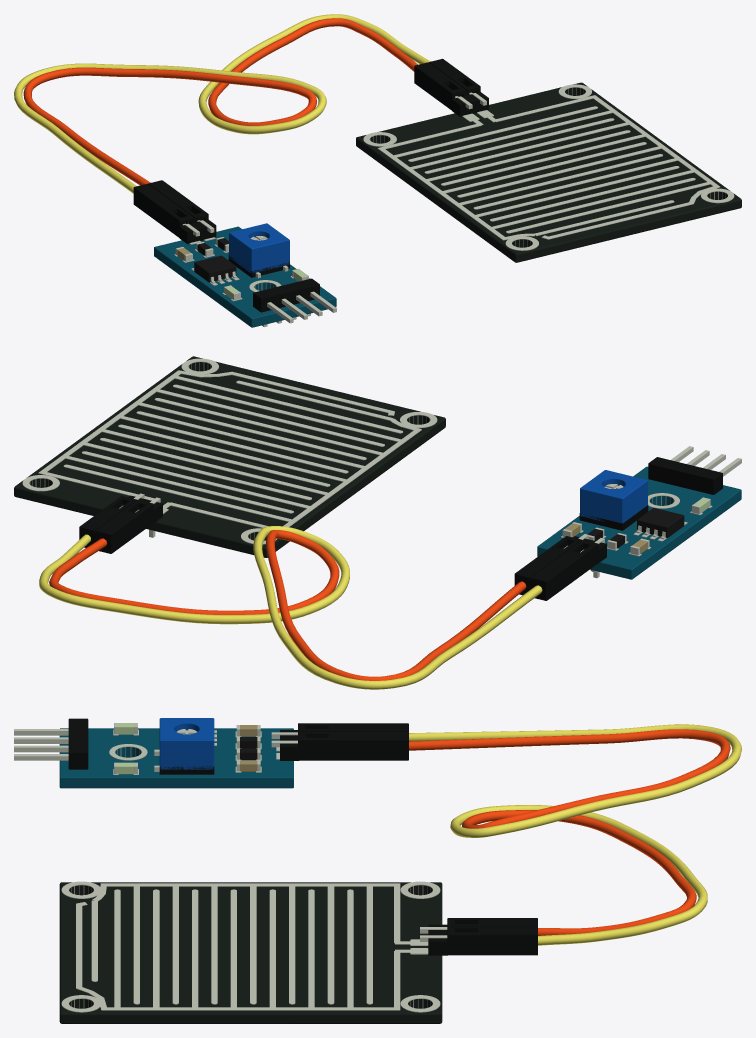
The model's file is humedad lluvia.glb.
The picture shows the model from 3 angles, top to bottom: view 1: azimuth 30°, elevation 25°; view 2: azimuth 150°, elevation 25°; view 3: azimuth 270°, elevation 25°; orthographic projection. The views are drawn at different scales.
Parts seen in each view (by area): view 1: Sensor board substrate_export, Orange jumper cable_export, Yellow jumper cable_export, Controller board substrate_export, Sensitivity adjustment trimmer_export, Controller two pin plug housing_export, Sensor two pin plug housing_export, Four pin output header_export, Comparator IC_export, Electrode B finger 07_export, Electrode A finger 02_export, Electrode B finger 01_export (+17 smaller); view 2: Sensor board substrate_export, Yellow jumper cable_export, Orange jumper cable_export, Controller board substrate_export, Controller two pin plug housing_export, Sensitivity adjustment trimmer_export, Sensor two pin plug housing_export, Four pin output header_export, Comparator IC_export, Electrode B finger 01_export, Electrode B finger 04_export, Electrode A finger 03_export (+15 smaller); view 3: Sensor board substrate_export, Yellow jumper cable_export, Controller board substrate_export, Orange jumper cable_export, Controller two pin plug housing_export, Sensor two pin plug housing_export, Sensitivity adjustment trimmer_export, Four pin output header_export, Electrode B bus_export, Electrode A bus_export, Electrode A finger 02_export, Lower electrode B return_export (+16 smaller).
Part boxes in pixels (x1,y1,x2,y2): Sensor board substrate_export: (356,82,741,262); Orange jumper cable_export: (23,18,417,185); Yellow jumper cable_export: (14,14,430,193); Controller board substrate_export: (154,226,336,327); Sensitivity adjustment trimmer_export: (229,223,289,273); Controller two pin plug housing_export: (133,180,208,237); Sensor two pin plug housing_export: (414,58,480,110); Four pin output header_export: (253,278,319,312); Comparator IC_export: (194,255,236,282); Electrode B finger 07_export: (506,181,711,233); Electrode A finger 02_export: (408,118,614,169); Electrode B finger 01_export: (408,110,614,161); Sensor board substrate_export: (14,356,445,557); Yellow jumper cable_export: (39,526,542,689); Orange jumper cable_export: (49,530,526,680); Controller board substrate_export: (537,466,741,579); Controller two pin plug housing_export: (514,536,598,600); Sensitivity adjustment trimmer_export: (580,470,647,523); Sensor two pin plug housing_export: (79,496,153,553); Four pin output header_export: (648,457,722,494); Comparator IC_export: (637,508,684,537); Electrode B finger 01_export: (63,455,293,513); Electrode B finger 04_export: (118,415,348,473); Electrode A finger 03_export: (100,438,330,495); Sensor board substrate_export: (59,882,442,1023); Yellow jumper cable_export: (409,724,741,945); Controller board substrate_export: (59,728,293,788); Orange jumper cable_export: (409,729,730,935); Controller two pin plug housing_export: (298,723,408,760); Sensor two pin plug housing_export: (447,918,537,955); Sensitivity adjustment trimmer_export: (159,718,214,769); Four pin output header_export: (68,718,88,769); Electrode B bus_export: (114,1007,372,1010); Electrode A bus_export: (114,883,372,886); Electrode A finger 02_export: (327,886,334,1004); Lower electrode B return_export: (76,902,116,1010).
Bounding box in the file's own units: 0.0865 × 0.00954 × 0.0932.
